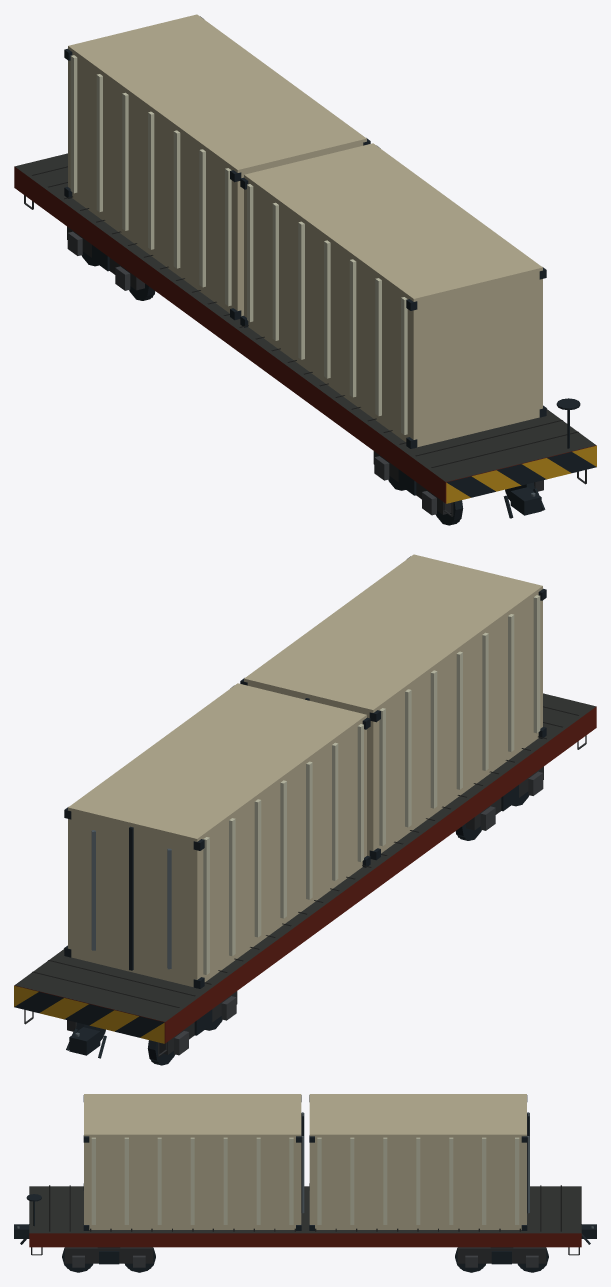
Rendered from container-wagon.glb.
3 views of the same model, one above another, from view 1: azimuth 30°, elevation 25°; view 2: azimuth 150°, elevation 25°; view 3: azimuth 270°, elevation 25° (orthographic). The views are drawn at different scales.
Visible parts, largest first — view 1: container-wagon (×2); view 2: container-wagon (×2); view 3: container-wagon (×2).
Boxes of the visible parts, x1,y1,x2,y2 form: container-wagon (×2): (14,14,596,525); container-wagon (×2): (14,554,596,1065); container-wagon (×2): (14,1094,596,1272).
Size of the model in its own units: 8.8 by 12.72 by 46.
